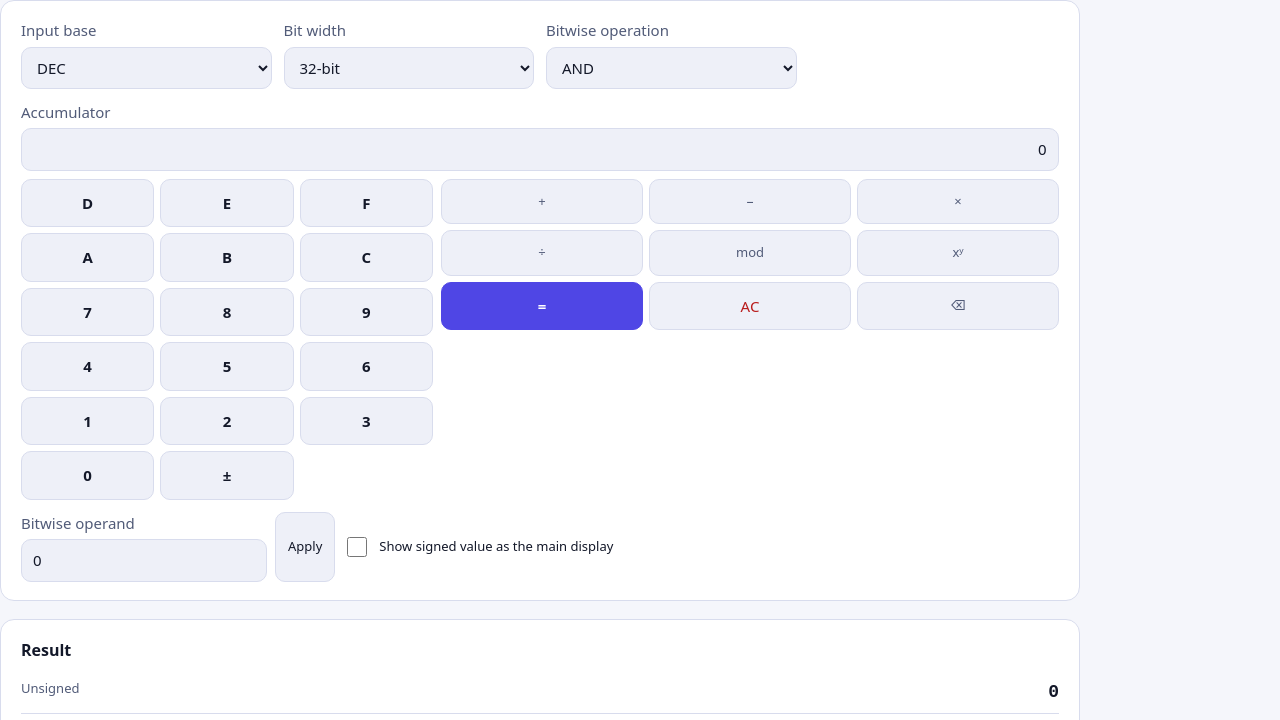
Test: programmer panel › applies bitwise operations to the accumulator
Replace the text in the field named "Integer input" with "240" at (540, 149), box left=21, top=128, right=1059, bottom=170
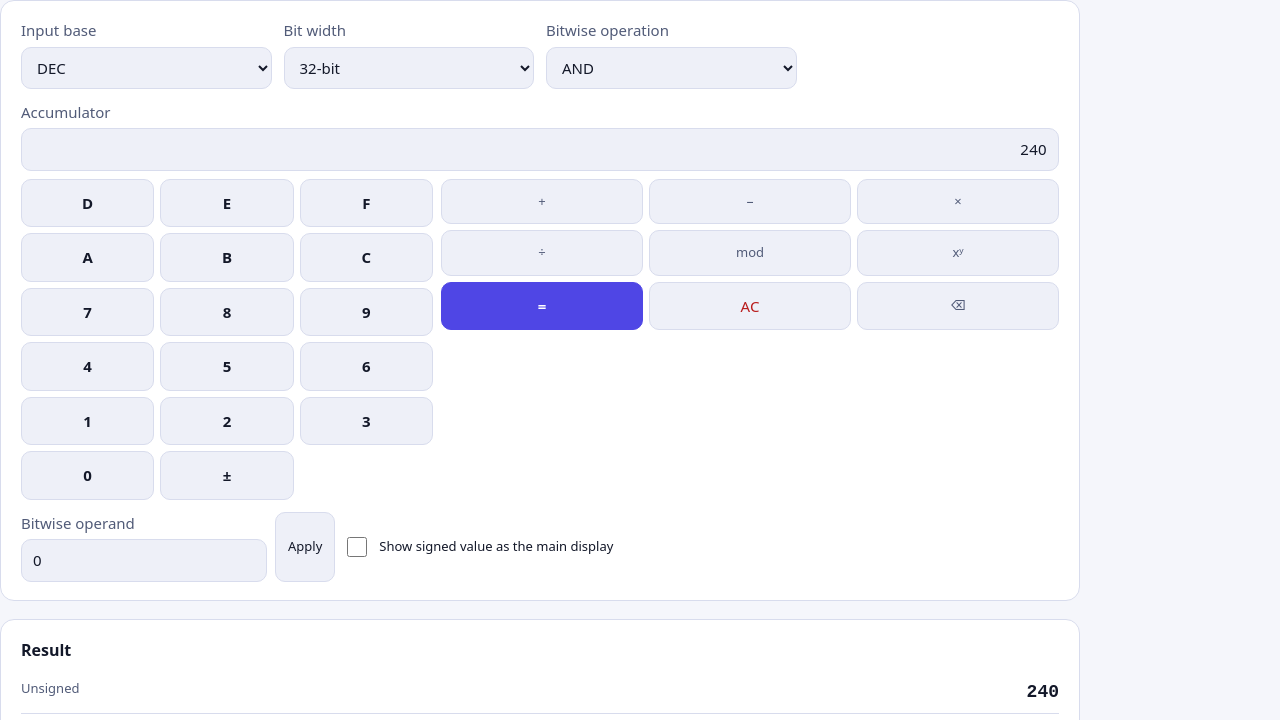
Replace the text in the field labelled "Bitwise operand" with "15" at (144, 560), box left=21, top=539, right=267, bottom=582
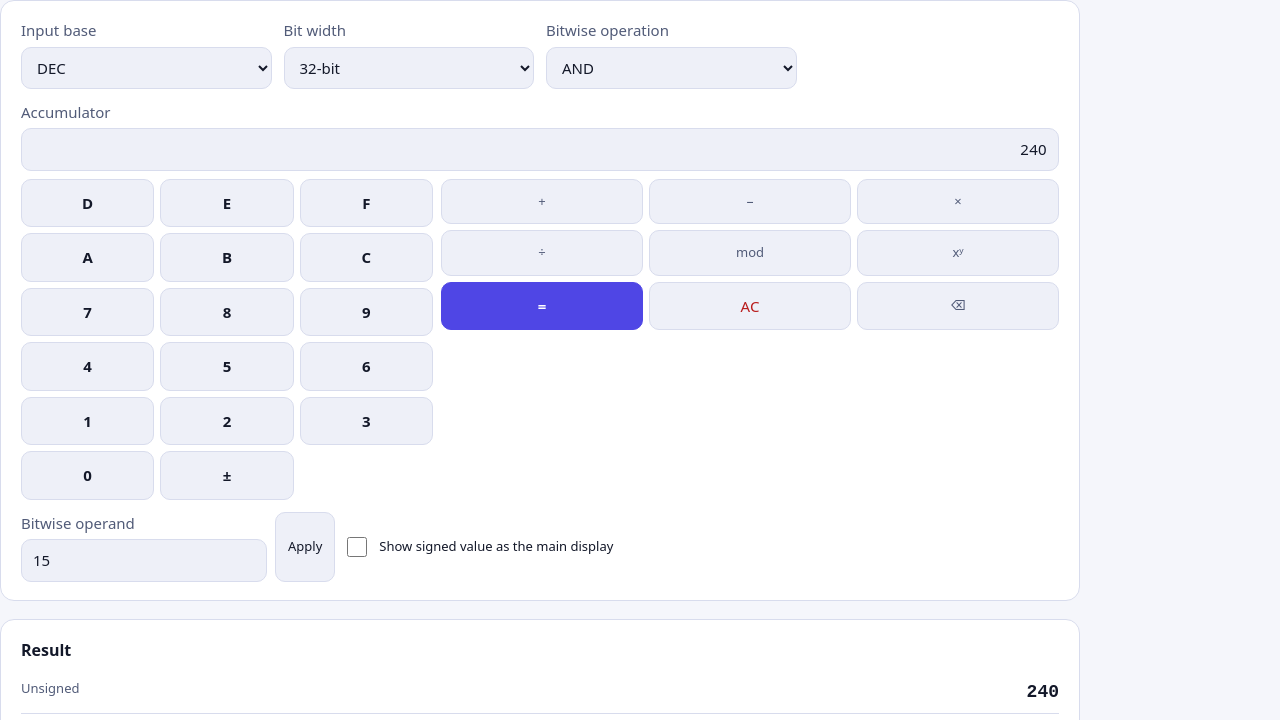
Select "OR" in the dropdown labelled "Bitwise operation" at (671, 68), box left=546, top=46, right=796, bottom=88
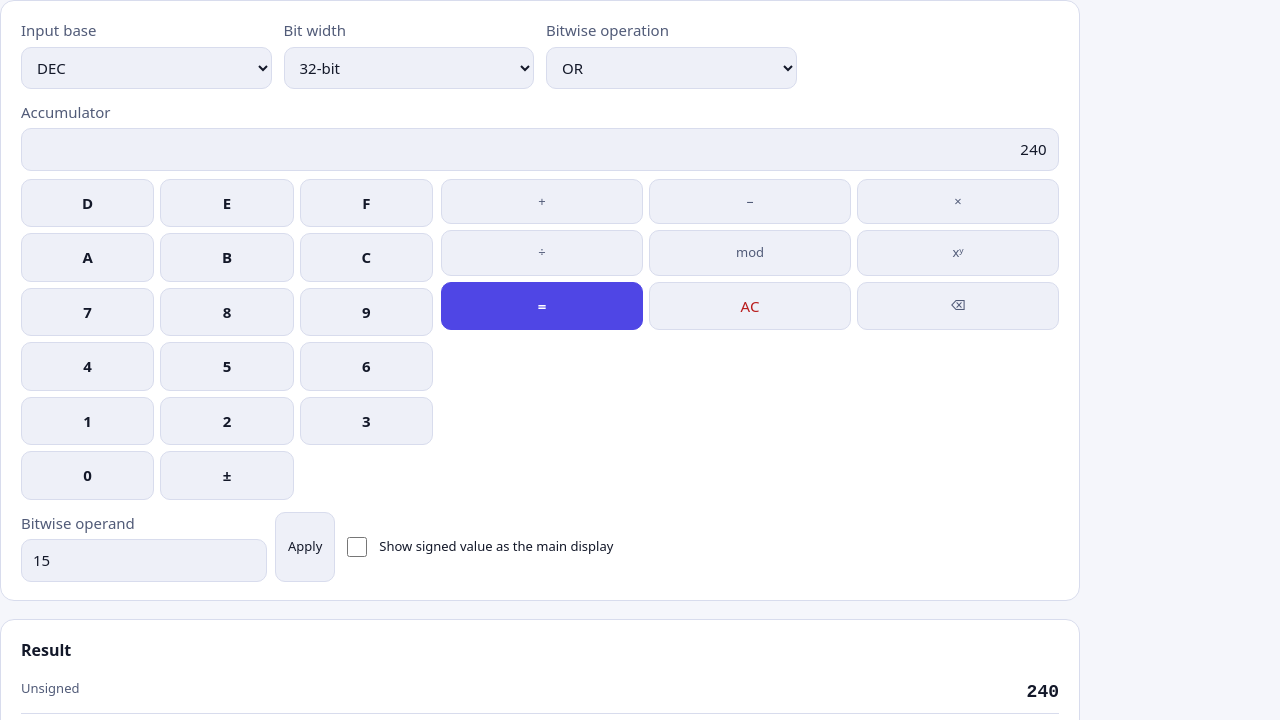
Click the button "Apply".
click(305, 546)  # box left=275, top=512, right=335, bottom=582
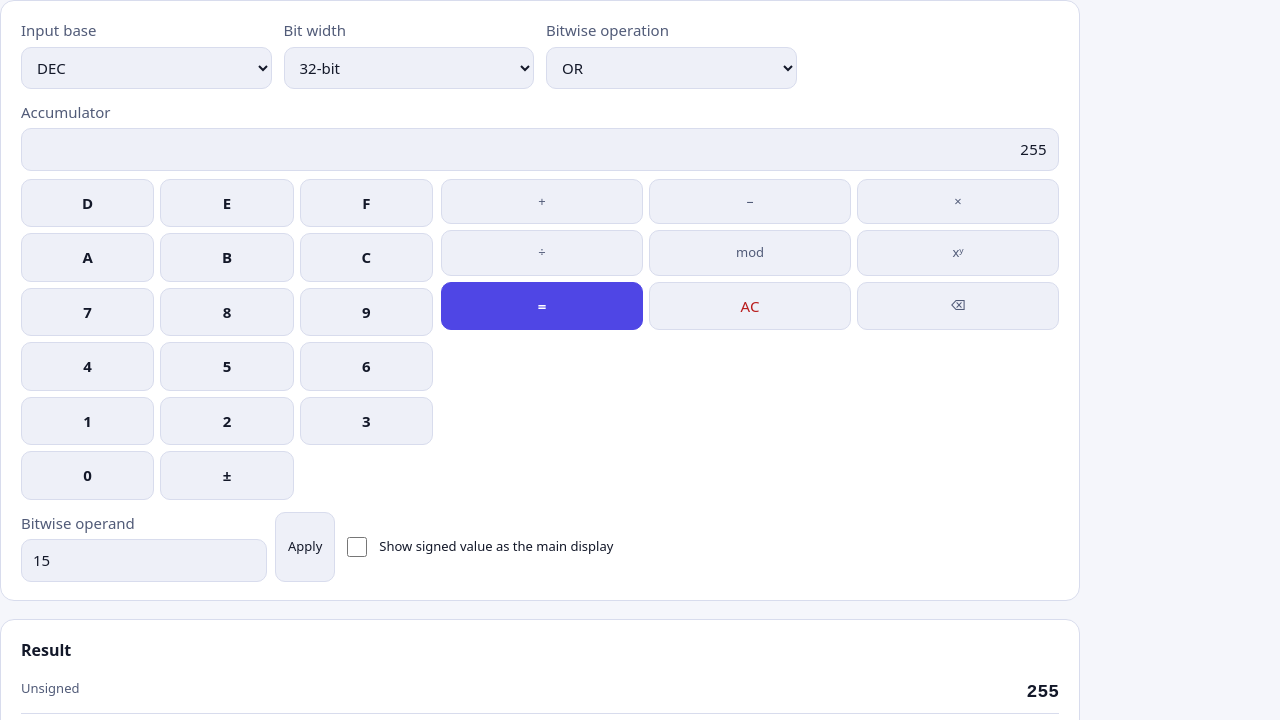
Check: the field named "Integer input" holds "255", box left=21, top=128, right=1059, bottom=170
